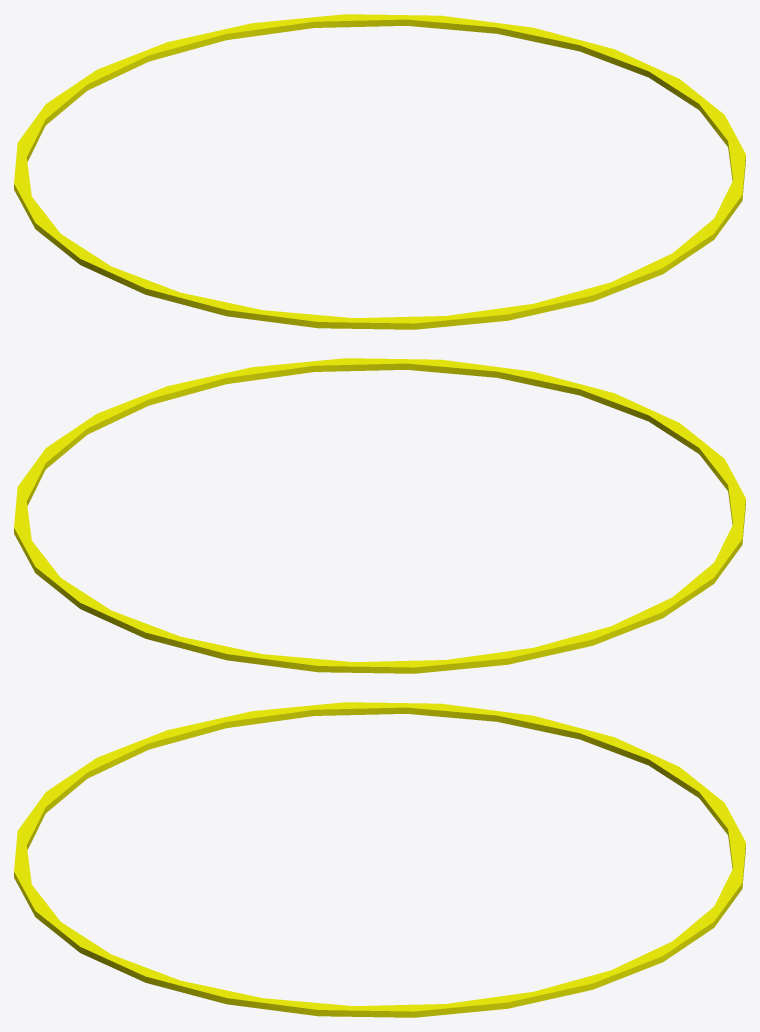
Rendered from orbita2.fbx.
The picture shows the model from 3 angles, top to bottom: view 1: azimuth 30°, elevation 25°; view 2: azimuth 150°, elevation 25°; view 3: azimuth 270°, elevation 25°; orthographic projection.
Parts seen in each view (by area): view 1: Model; view 2: Model; view 3: Model.
Boxes of the visible parts, left/top/right/bottom form: Model: left=14, top=14, right=745, bottom=329; Model: left=14, top=358, right=745, bottom=673; Model: left=14, top=702, right=745, bottom=1017.
Bounding box in the file's own units: 54.76 × 0.518 × 54.76.
